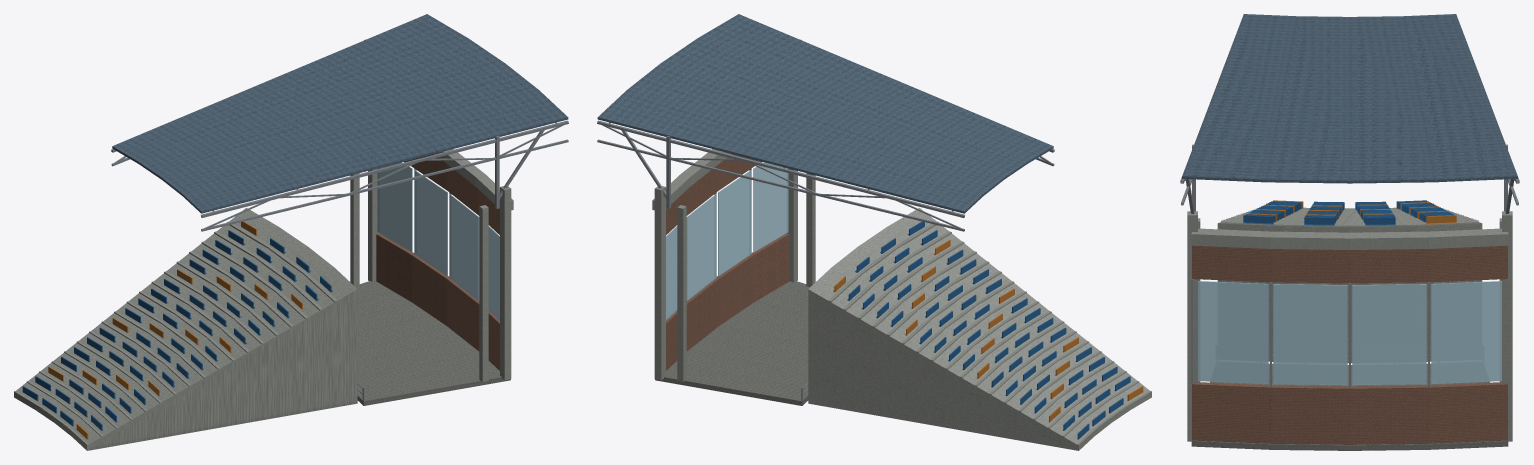
File: PZ_Stadium_Curved_SeatingFacade_Bay_15Deg.glb
3 renders of one model, left to right at view 1: azimuth 30°, elevation 25°; view 2: azimuth 150°, elevation 25°; view 3: azimuth 270°, elevation 25°, orthographic. The views are drawn at different scales.
Visible parts, largest first — view 1: REPEATABLE_CURVE_BAY__ROOF_SHEET, REPEATABLE_CURVE_BAY__SUPPORT_CONCRETE, REPEATABLE_CURVE_BAY__CONCOURSE_WALKABLE_FLOOR, REPEATABLE_CURVE_BAY__GLAZED_FACADE, REPEATABLE_CURVE_BAY__TERRACE_TREADS, REPEATABLE_CURVE_BAY__SEAT_BLUE, REPEATABLE_CURVE_BAY__FACADE_BRICK_INFILL, REPEATABLE_CURVE_BAY__FACADE_PIERS, REPEATABLE_CURVE_BAY__ROOF_TRUSS_CHORD, REPEATABLE_CURVE_BAY__CONCOURSE_COLUMNS, REPEATABLE_CURVE_BAY__FACADE_UPPER_FRIEZE, REPEATABLE_CURVE_BAY__SEAT_AMBER (+2 smaller); view 2: REPEATABLE_CURVE_BAY__ROOF_SHEET, REPEATABLE_CURVE_BAY__SUPPORT_CONCRETE, REPEATABLE_CURVE_BAY__CONCOURSE_WALKABLE_FLOOR, REPEATABLE_CURVE_BAY__GLAZED_FACADE, REPEATABLE_CURVE_BAY__TERRACE_TREADS, REPEATABLE_CURVE_BAY__SEAT_BLUE, REPEATABLE_CURVE_BAY__FACADE_BRICK_INFILL, REPEATABLE_CURVE_BAY__FACADE_PIERS, REPEATABLE_CURVE_BAY__ROOF_TRUSS_CHORD, REPEATABLE_CURVE_BAY__CONCOURSE_COLUMNS, REPEATABLE_CURVE_BAY__FACADE_UPPER_FRIEZE, REPEATABLE_CURVE_BAY__SEAT_AMBER (+2 smaller); view 3: REPEATABLE_CURVE_BAY__ROOF_SHEET, REPEATABLE_CURVE_BAY__GLAZED_FACADE, REPEATABLE_CURVE_BAY__FACADE_BRICK_INFILL, REPEATABLE_CURVE_BAY__FACADE_UPPER_FRIEZE, REPEATABLE_CURVE_BAY__FACADE_CORNICE, REPEATABLE_CURVE_BAY__FACADE_PIERS, REPEATABLE_CURVE_BAY__SUPPORT_CONCRETE, REPEATABLE_CURVE_BAY__SEAT_BLUE, REPEATABLE_CURVE_BAY__CONCOURSE_WALKABLE_FLOOR, REPEATABLE_CURVE_BAY__TERRACE_TREADS, REPEATABLE_CURVE_BAY__SEAT_AMBER, REPEATABLE_CURVE_BAY__GLAZING_MULLIONS.
Boxes of the visible parts, left/top/right/bottom form: REPEATABLE_CURVE_BAY__ROOF_SHEET: left=112, top=14, right=568, bottom=213; REPEATABLE_CURVE_BAY__SUPPORT_CONCRETE: left=14, top=208, right=357, bottom=450; REPEATABLE_CURVE_BAY__CONCOURSE_WALKABLE_FLOOR: left=356, top=281, right=510, bottom=405; REPEATABLE_CURVE_BAY__GLAZED_FACADE: left=377, top=162, right=499, bottom=320; REPEATABLE_CURVE_BAY__TERRACE_TREADS: left=14, top=221, right=347, bottom=447; REPEATABLE_CURVE_BAY__SEAT_BLUE: left=22, top=230, right=332, bottom=430; REPEATABLE_CURVE_BAY__FACADE_BRICK_INFILL: left=376, top=233, right=499, bottom=370; REPEATABLE_CURVE_BAY__FACADE_PIERS: left=368, top=168, right=511, bottom=380; REPEATABLE_CURVE_BAY__ROOF_TRUSS_CHORD: left=111, top=120, right=568, bottom=231; REPEATABLE_CURVE_BAY__CONCOURSE_COLUMNS: left=350, top=173, right=488, bottom=381; REPEATABLE_CURVE_BAY__FACADE_UPPER_FRIEZE: left=404, top=154, right=499, bottom=234; REPEATABLE_CURVE_BAY__SEAT_AMBER: left=48, top=221, right=304, bottom=439; REPEATABLE_CURVE_BAY__ROOF_SHEET: left=597, top=14, right=1053, bottom=213; REPEATABLE_CURVE_BAY__SUPPORT_CONCRETE: left=808, top=208, right=1151, bottom=450; REPEATABLE_CURVE_BAY__CONCOURSE_WALKABLE_FLOOR: left=655, top=281, right=809, bottom=405; REPEATABLE_CURVE_BAY__GLAZED_FACADE: left=666, top=162, right=788, bottom=320; REPEATABLE_CURVE_BAY__TERRACE_TREADS: left=818, top=221, right=1151, bottom=446; REPEATABLE_CURVE_BAY__SEAT_BLUE: left=847, top=221, right=1130, bottom=439; REPEATABLE_CURVE_BAY__FACADE_BRICK_INFILL: left=666, top=233, right=789, bottom=370; REPEATABLE_CURVE_BAY__FACADE_PIERS: left=654, top=168, right=797, bottom=380; REPEATABLE_CURVE_BAY__ROOF_TRUSS_CHORD: left=597, top=120, right=1054, bottom=231; REPEATABLE_CURVE_BAY__CONCOURSE_COLUMNS: left=677, top=173, right=815, bottom=381; REPEATABLE_CURVE_BAY__FACADE_UPPER_FRIEZE: left=666, top=154, right=761, bottom=234; REPEATABLE_CURVE_BAY__SEAT_AMBER: left=833, top=240, right=1143, bottom=422; REPEATABLE_CURVE_BAY__ROOF_SHEET: left=1182, top=14, right=1517, bottom=183; REPEATABLE_CURVE_BAY__GLAZED_FACADE: left=1198, top=281, right=1501, bottom=385; REPEATABLE_CURVE_BAY__FACADE_BRICK_INFILL: left=1192, top=382, right=1507, bottom=444; REPEATABLE_CURVE_BAY__FACADE_UPPER_FRIEZE: left=1192, top=245, right=1507, bottom=283; REPEATABLE_CURVE_BAY__FACADE_CORNICE: left=1191, top=228, right=1508, bottom=249; REPEATABLE_CURVE_BAY__FACADE_PIERS: left=1187, top=211, right=1512, bottom=441; REPEATABLE_CURVE_BAY__SUPPORT_CONCRETE: left=1217, top=222, right=1482, bottom=363; REPEATABLE_CURVE_BAY__SEAT_BLUE: left=1243, top=200, right=1454, bottom=225; REPEATABLE_CURVE_BAY__CONCOURSE_WALKABLE_FLOOR: left=1191, top=363, right=1508, bottom=450; REPEATABLE_CURVE_BAY__TERRACE_TREADS: left=1221, top=207, right=1478, bottom=225; REPEATABLE_CURVE_BAY__SEAT_AMBER: left=1247, top=200, right=1456, bottom=224; REPEATABLE_CURVE_BAY__GLAZING_MULLIONS: left=1191, top=279, right=1429, bottom=388.
Size of the model in its own units: 40.37 by 21.45 by 21.89.
Materials: 8 (7 with a texture image).
